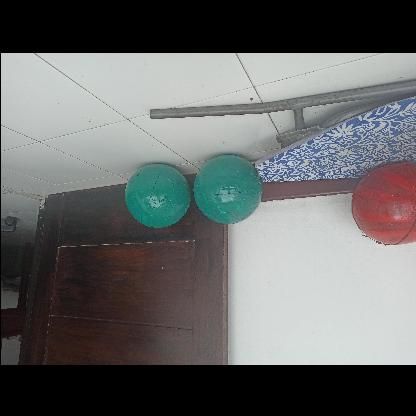green_ball: (192, 156, 260, 224), (123, 163, 189, 229)
